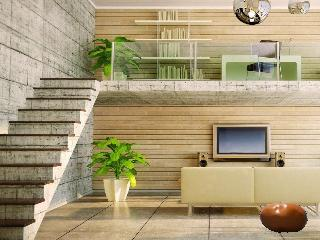potato: (258, 200, 311, 234)
